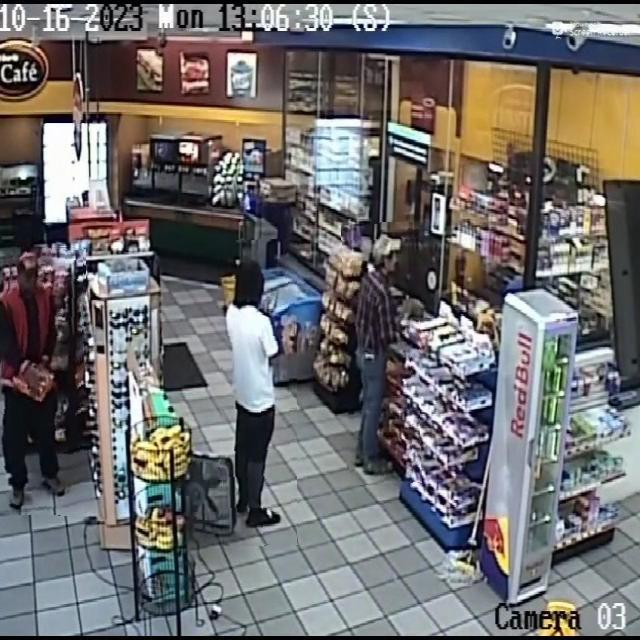Normal: (219, 240, 297, 546), (0, 245, 83, 515), (344, 222, 421, 485)
